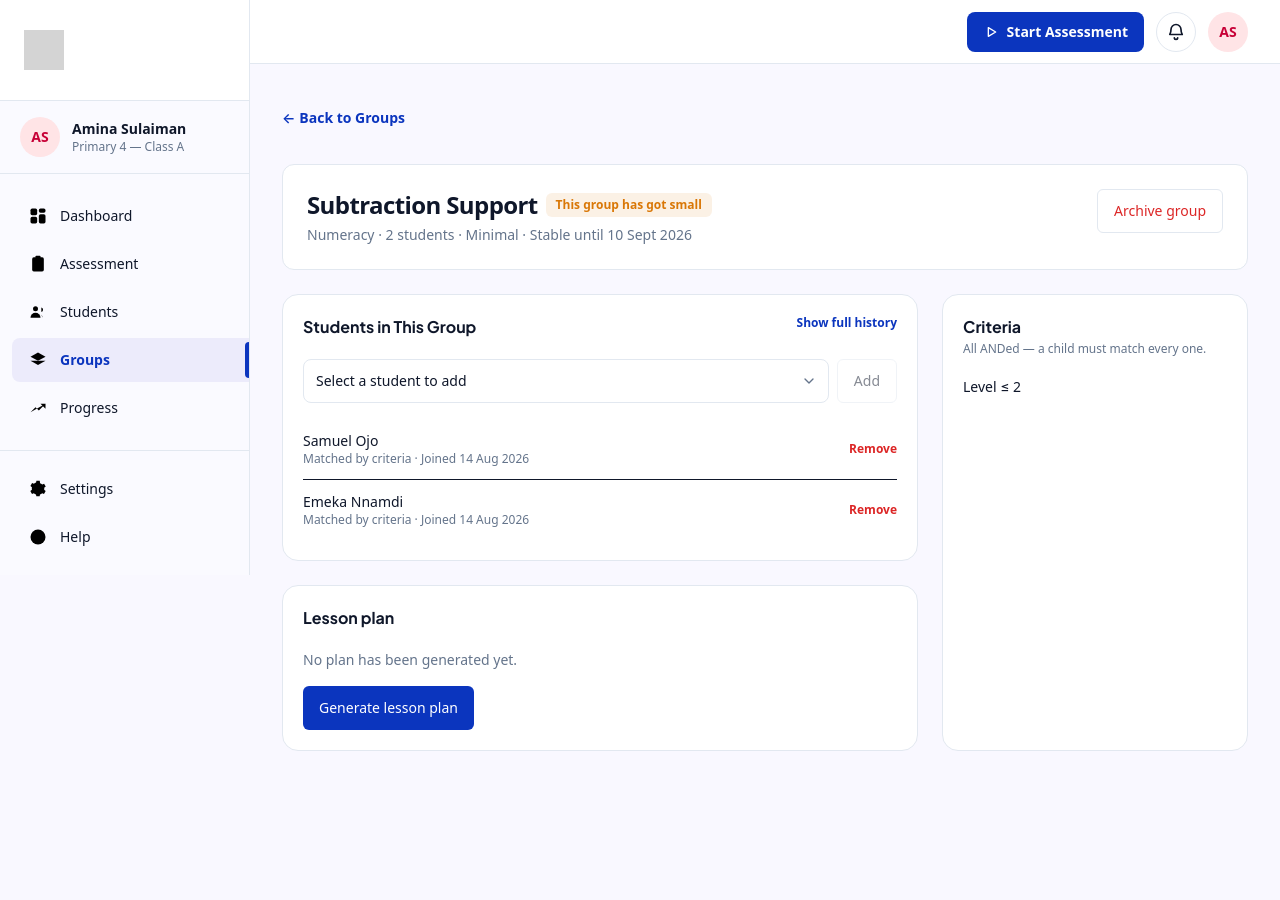
Scenario: GroupDetailPage › renders a fallback plan normally, not as an error
expect the heading "Subtraction Support" is shown: met, box x1=307 y1=189 x2=538 y2=221
expect the text "No plan has been generated yet." is shown: met, box x1=303 y1=650 x2=517 y2=669
Step 1. Click the button "Generate lesson plan" → (388, 708), box x1=303 y1=686 x2=474 y2=730
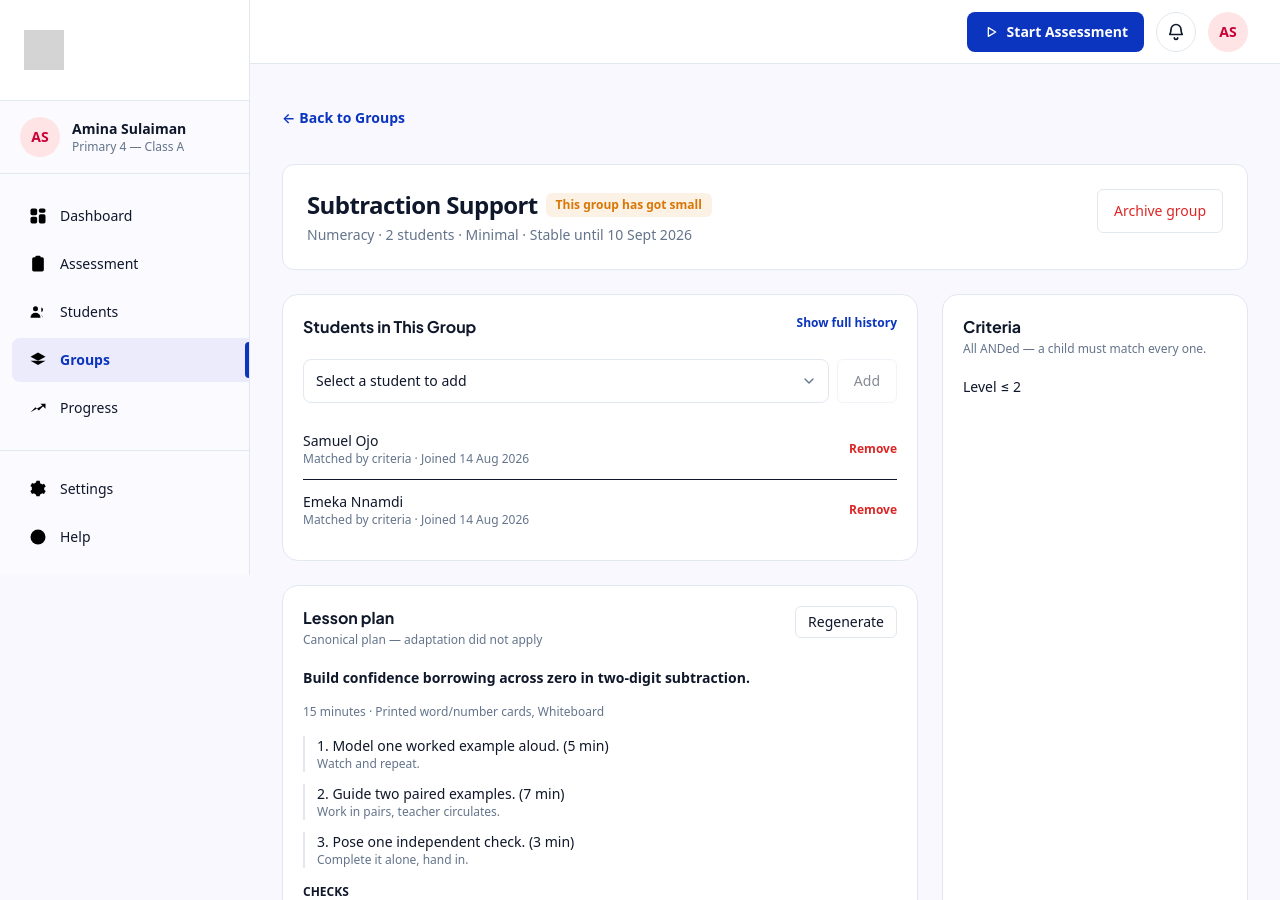
expect the text "Canonical plan — adaptation did not apply" is shown: met, box x1=303 y1=632 x2=542 y2=648
expect the text "Build confidence borrowing across zero" is shown: met, box x1=303 y1=668 x2=750 y2=687
